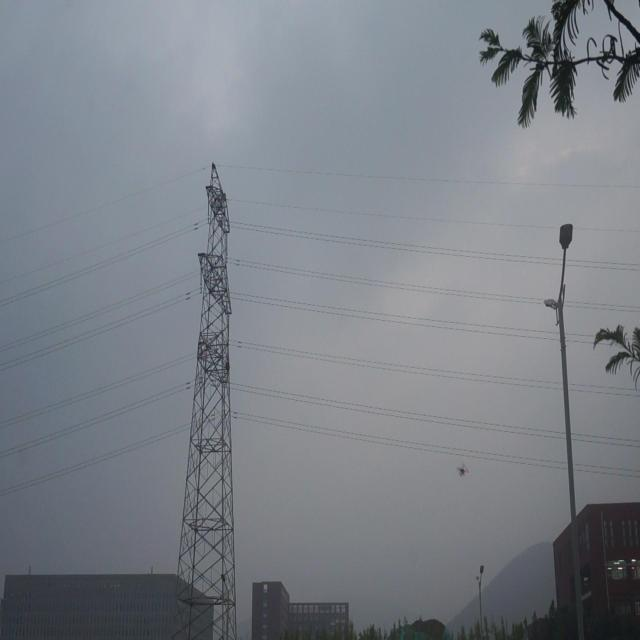drone: (455, 461, 471, 480)
